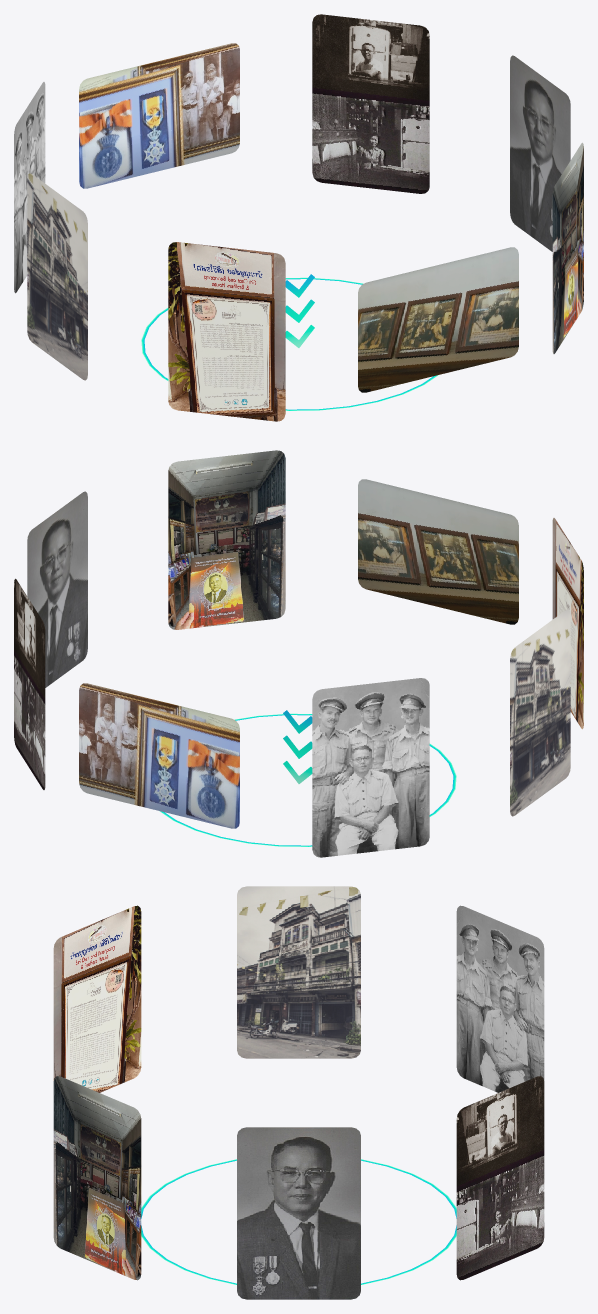
The model's file is directional_arrow.glb.
3 renders of one model, top to bottom at view 1: azimuth 30°, elevation 25°; view 2: azimuth 150°, elevation 25°; view 3: azimuth 270°, elevation 25°, orthographic. The views are drawn at different scales.
Parts seen in each view (by area): view 1: Plane.001, Plane.008, Plane.009, Plane.010, Plane.003, Plane.002, Plane.007, Plane, Circle; view 2: Plane, Plane.007, Plane.009, Plane.010, Plane.003, Plane.002, Plane.001, Plane.008, Circle; view 3: Plane.002, Plane.003, Plane.001, Plane.007, Plane, Plane.008, Circle.
Part boxes in pixels (x1=…): Plane.001: x1=312, y1=14, x2=429, y2=193; Plane.008: x1=168, y1=242, x2=285, y2=421; Plane.009: x1=358, y1=247, x2=518, y2=392; Plane.010: x1=79, y1=43, x2=239, y2=188; Plane.003: x1=27, y1=173, x2=87, y2=380; Plane.002: x1=510, y1=55, x2=570, y2=251; Plane.007: x1=552, y1=142, x2=583, y2=353; Plane: x1=14, y1=82, x2=45, y2=293; Circle: x1=141, y1=277, x2=438, y2=410; Plane: x1=312, y1=678, x2=429, y2=857; Plane.007: x1=168, y1=450, x2=285, y2=629; Plane.009: x1=358, y1=479, x2=518, y2=624; Plane.010: x1=79, y1=683, x2=239, y2=828; Plane.003: x1=510, y1=609, x2=570, y2=816; Plane.002: x1=27, y1=491, x2=87, y2=687; Plane.001: x1=14, y1=578, x2=45, y2=789; Plane.008: x1=552, y1=518, x2=583, y2=729; Circle: x1=159, y1=713, x2=456, y2=846; Plane.002: x1=237, y1=1127, x2=360, y2=1299; Plane.003: x1=237, y1=886, x2=360, y2=1058; Plane.001: x1=456, y1=1076, x2=544, y2=1280; Plane.007: x1=53, y1=1076, x2=141, y2=1280; Plane: x1=456, y1=905, x2=544, y2=1092; Plane.008: x1=53, y1=905, x2=141, y2=1092; Circle: x1=141, y1=1159, x2=456, y2=1284.
Size of the model in its own units: 6 by 2.55 by 6.
Materials: 1 (1 with a texture image).
